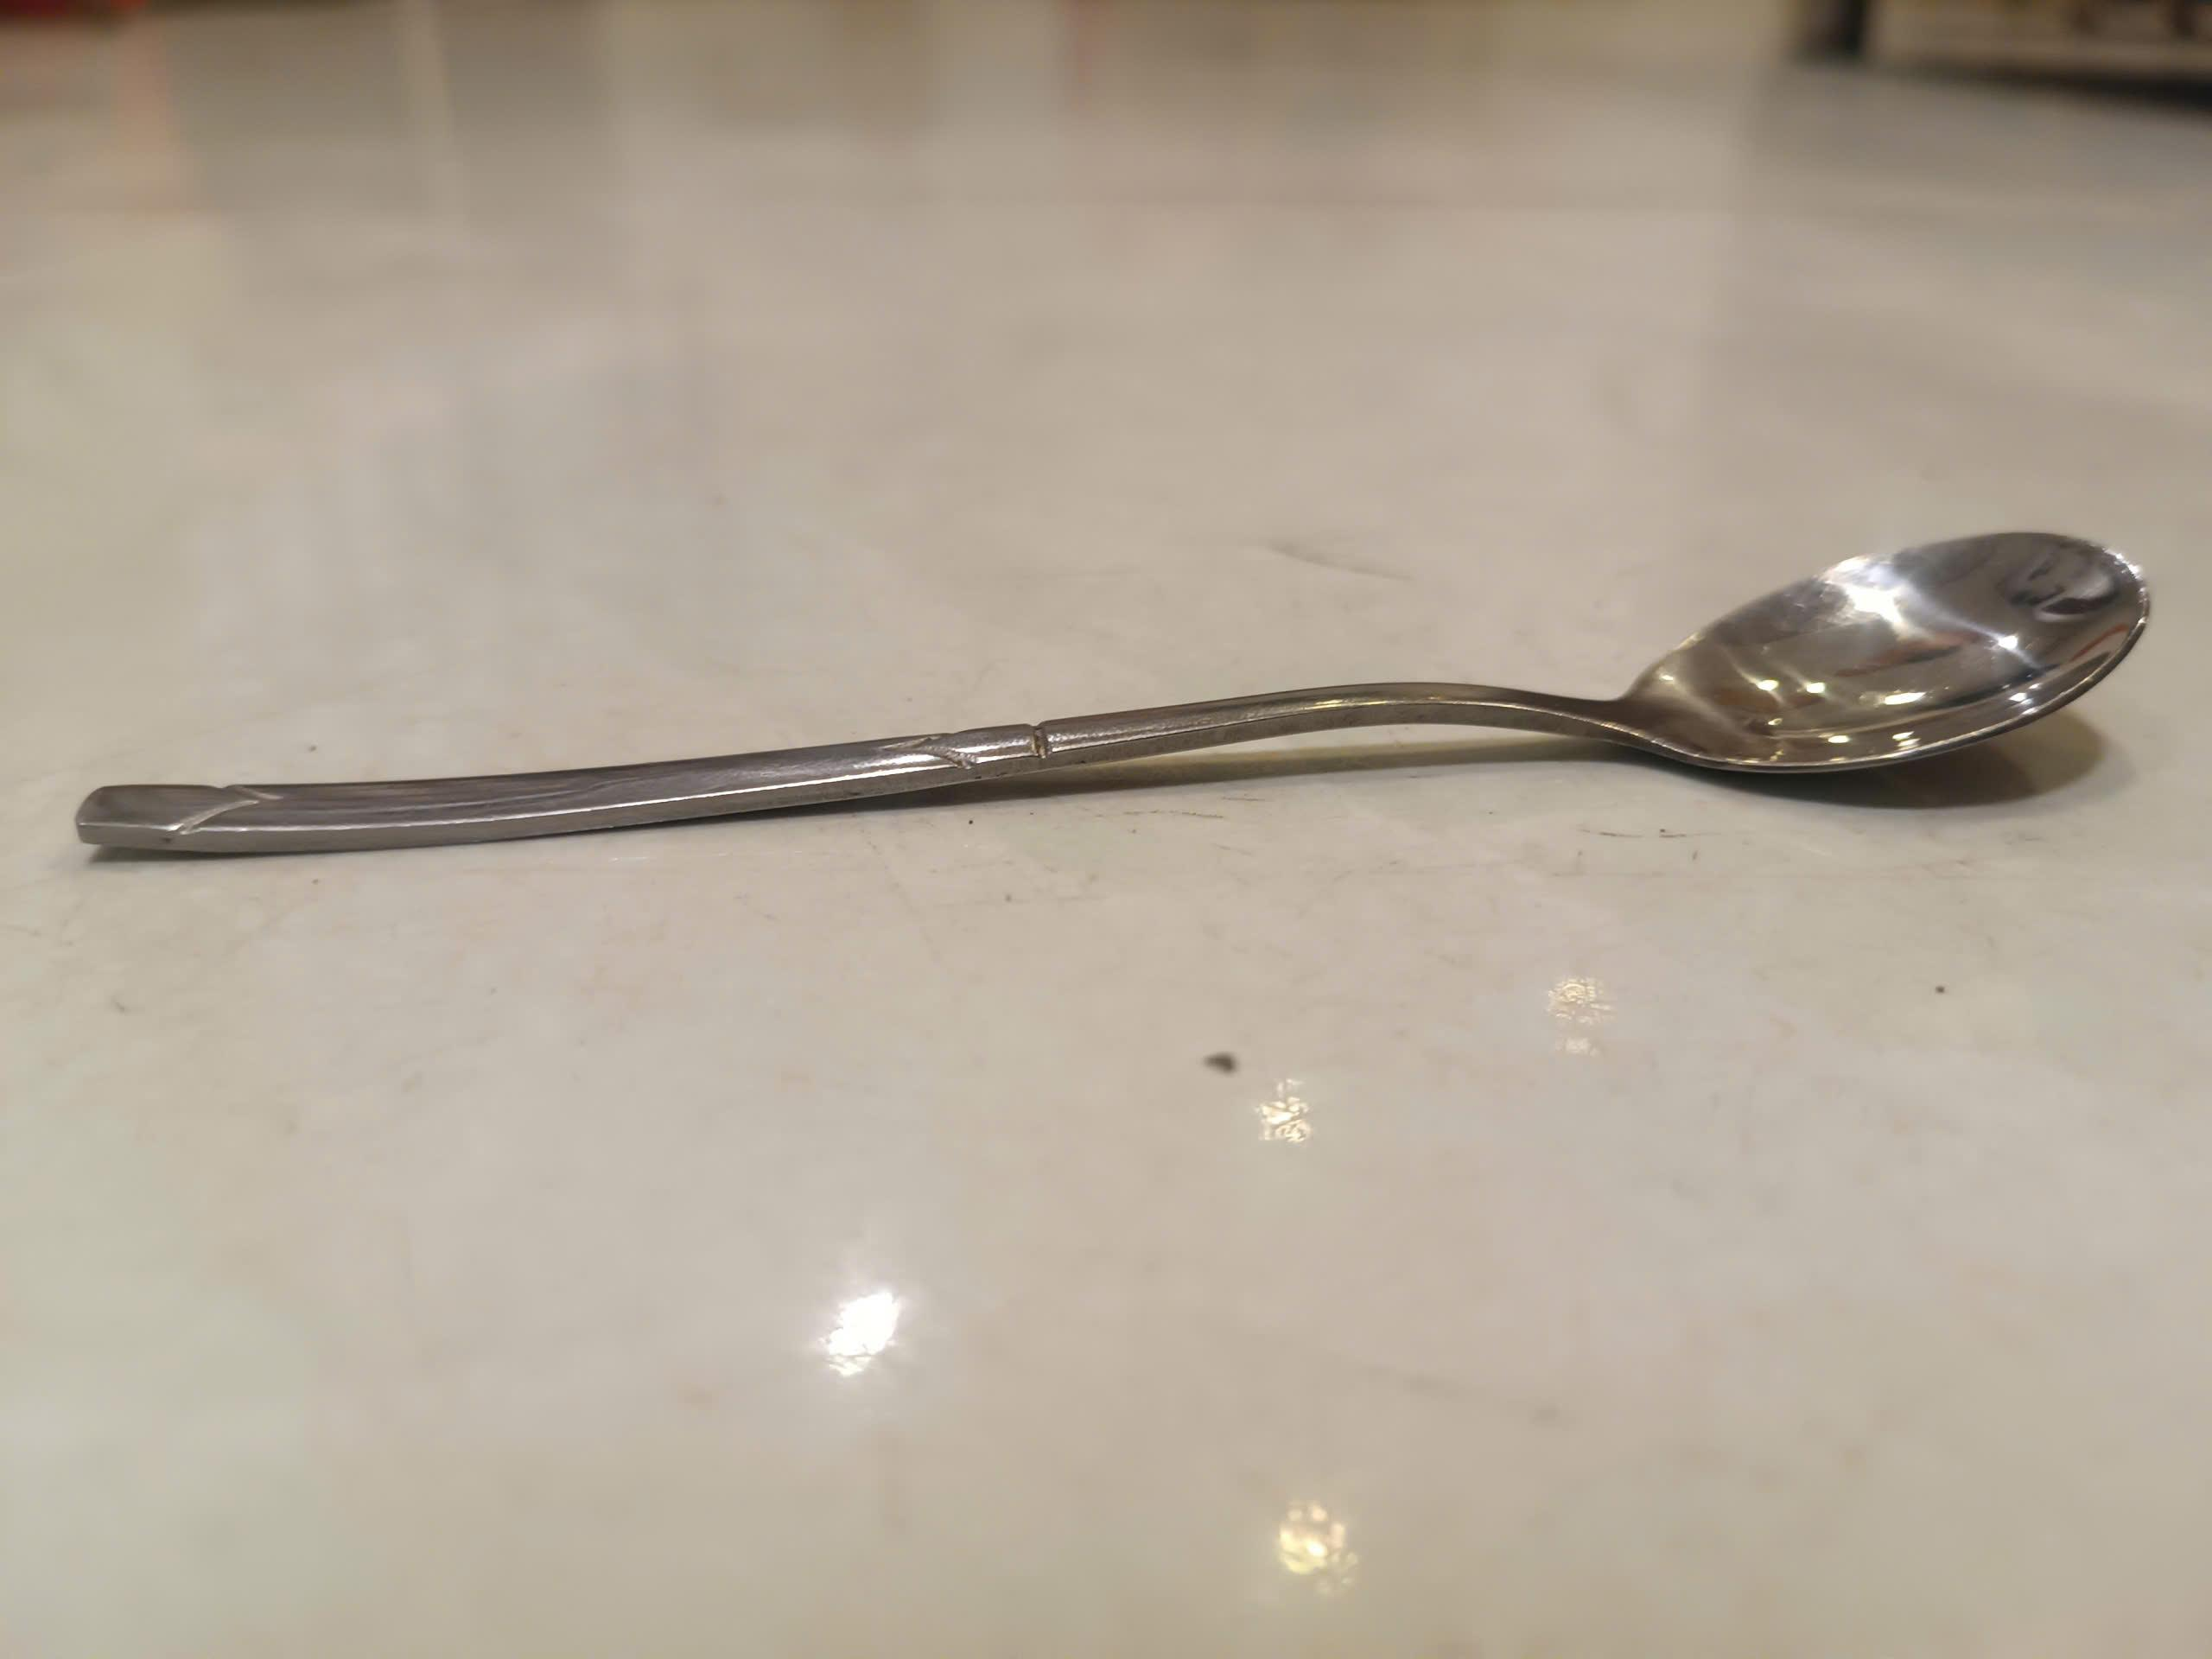Vo co: (78, 525, 2156, 856)
